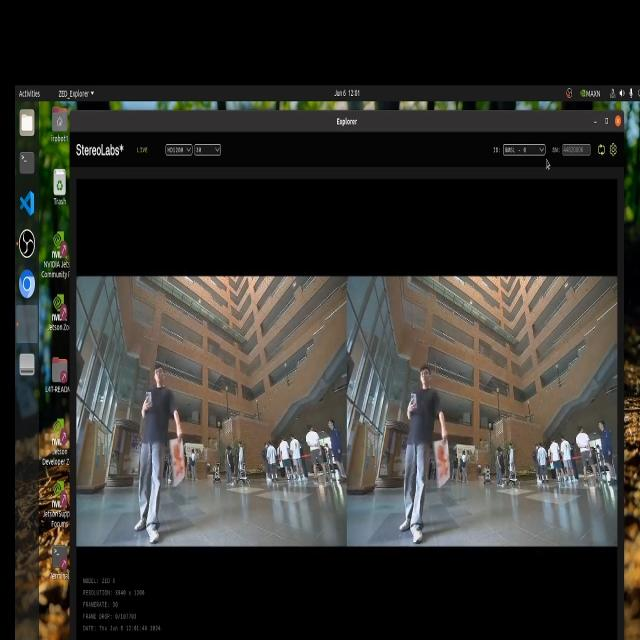red: (169, 439, 187, 479), (436, 443, 452, 482)
